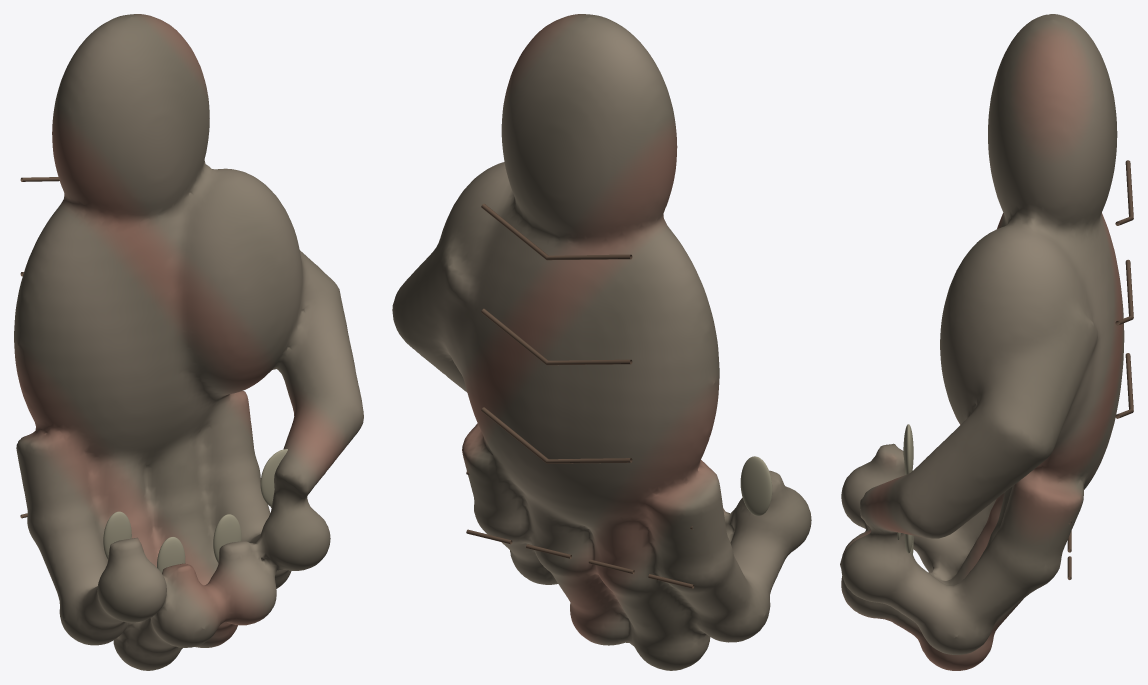
Rendered from anatomical-grip.glb.
3 views of the same model, side by side, from view 1: azimuth 30°, elevation 25°; view 2: azimuth 150°, elevation 25°; view 3: azimuth 270°, elevation 25° (orthographic). The views are drawn at different scales.
Parts seen in each view (by area): view 1: AnatomicalHand, Fingernail, Fingernail.002, Fingernail.001, Thumbnail; view 2: AnatomicalHand, Fingernail, Palm fold.001, Palm fold.002, Palm fold; view 3: AnatomicalHand, Fingernail.
Part boxes in pixels (<box>): AnatomicalHand: <box>14,14,363,670</box>; Fingernail: <box>103,511,131,559</box>; Fingernail.002: <box>213,514,241,562</box>; Fingernail.001: <box>157,536,185,572</box>; Thumbnail: <box>260,449,287,506</box>; AnatomicalHand: <box>392,14,811,670</box>; Fingernail: <box>740,456,772,515</box>; Palm fold.001: <box>481,308,632,365</box>; Palm fold.002: <box>481,203,632,260</box>; Palm fold: <box>481,407,632,463</box>; AnatomicalHand: <box>840,14,1124,670</box>; Fingernail: <box>903,424,913,474</box>.
Size of the model in its own units: 0.1066 by 0.2066 by 0.0856.
